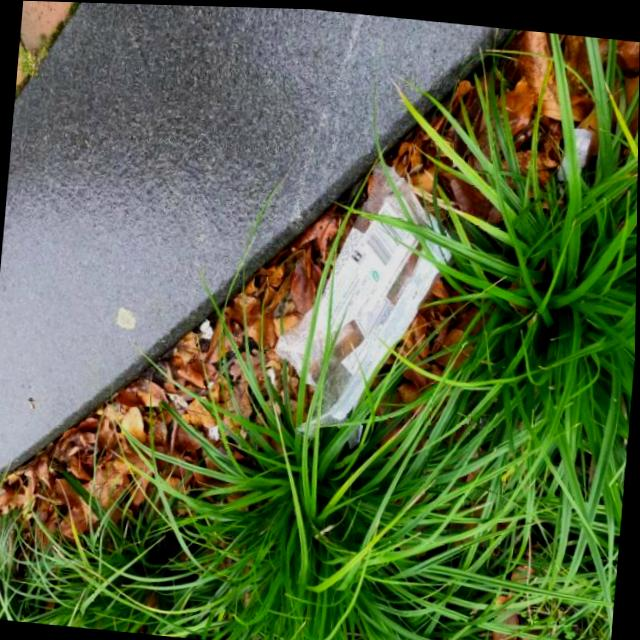Plastic: (266, 147, 461, 457)
